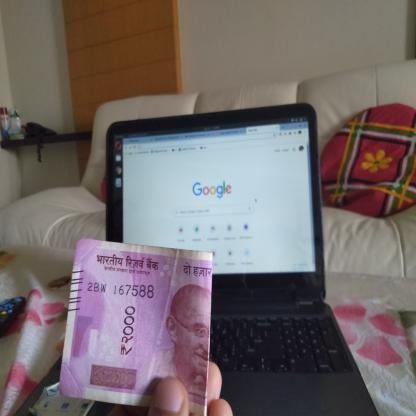New2000Front: (74, 246, 210, 409)
